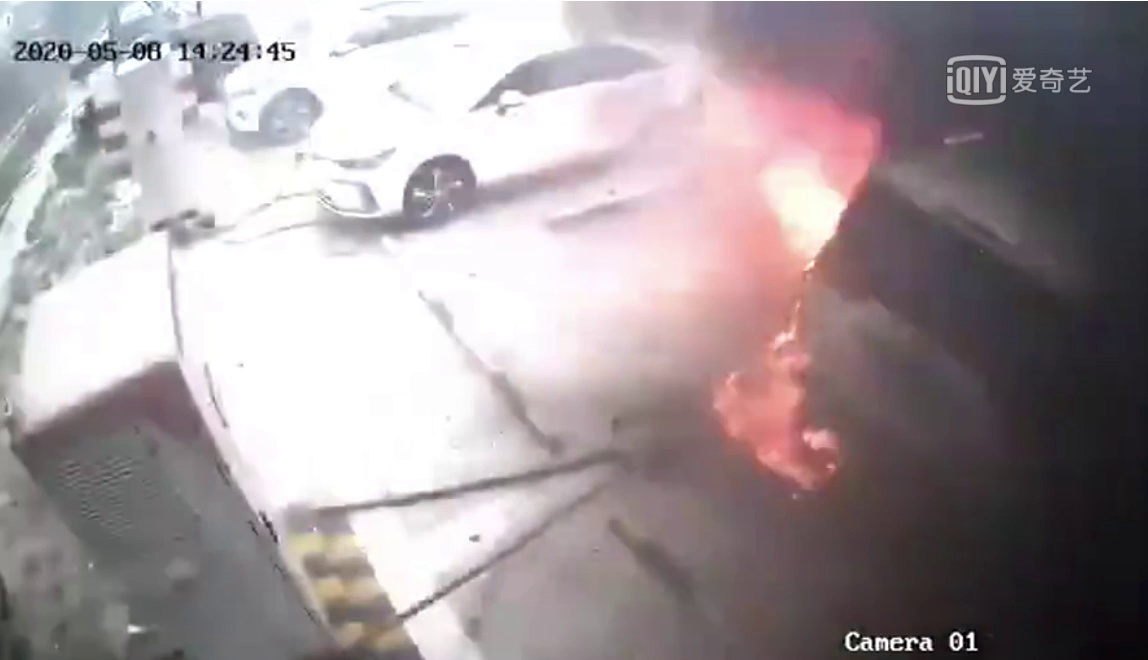fire: (717, 137, 861, 496)
